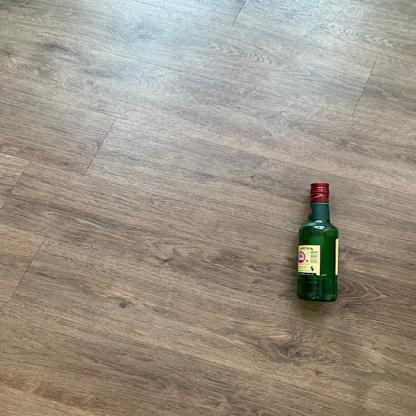trash: (296, 181, 341, 303)
